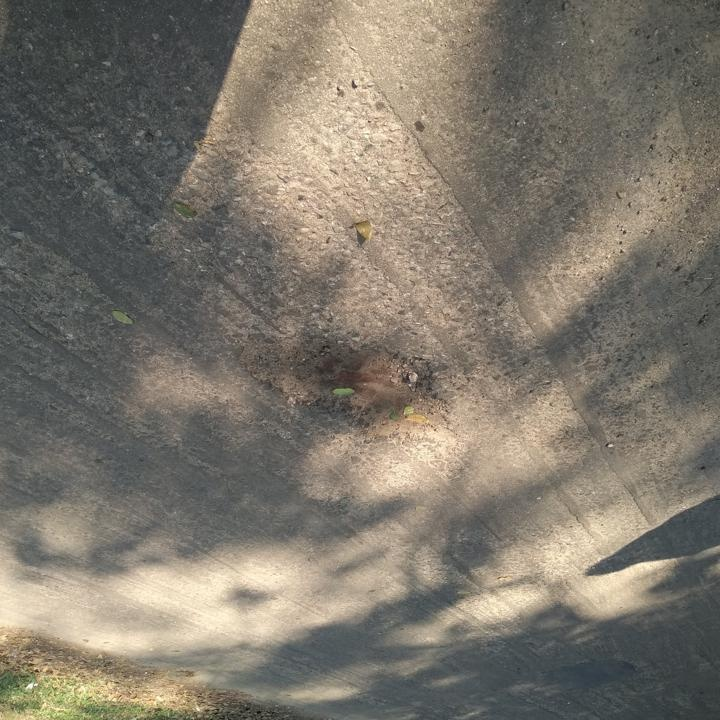pothole: (228, 326, 453, 446)
